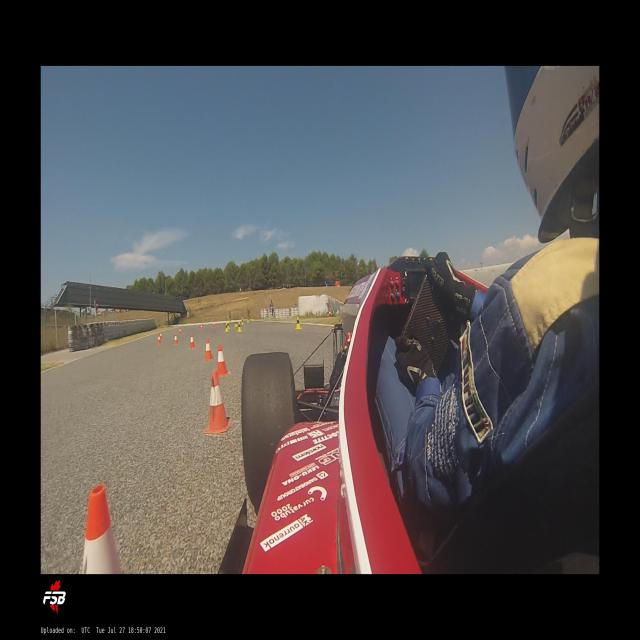orange_cone: (81, 484, 123, 574), (202, 371, 232, 433), (218, 344, 229, 375), (204, 338, 214, 361), (189, 334, 195, 349), (157, 334, 162, 344), (174, 334, 178, 346), (179, 328, 182, 334), (160, 332, 162, 339), (200, 324, 202, 329)
yellow_cone: (295, 316, 301, 330), (224, 322, 230, 332), (238, 321, 242, 332), (235, 320, 238, 328), (227, 322, 230, 328), (247, 317, 250, 323), (241, 317, 243, 325), (252, 316, 254, 321)
